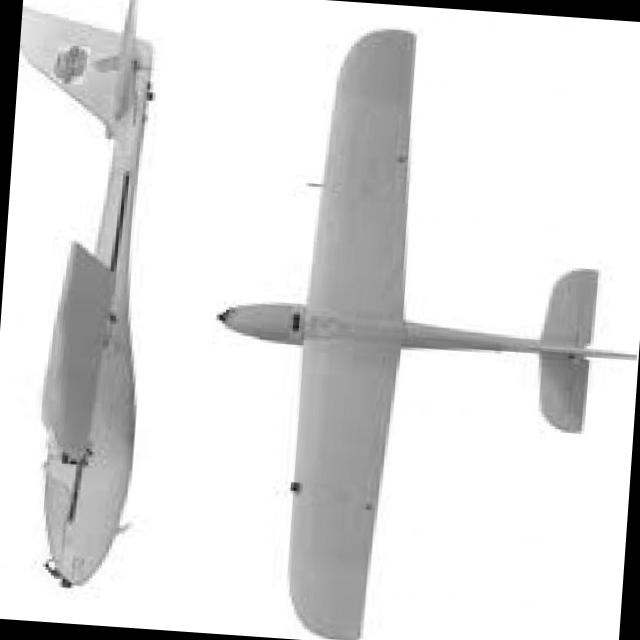UAV: (0, 0, 627, 616)
